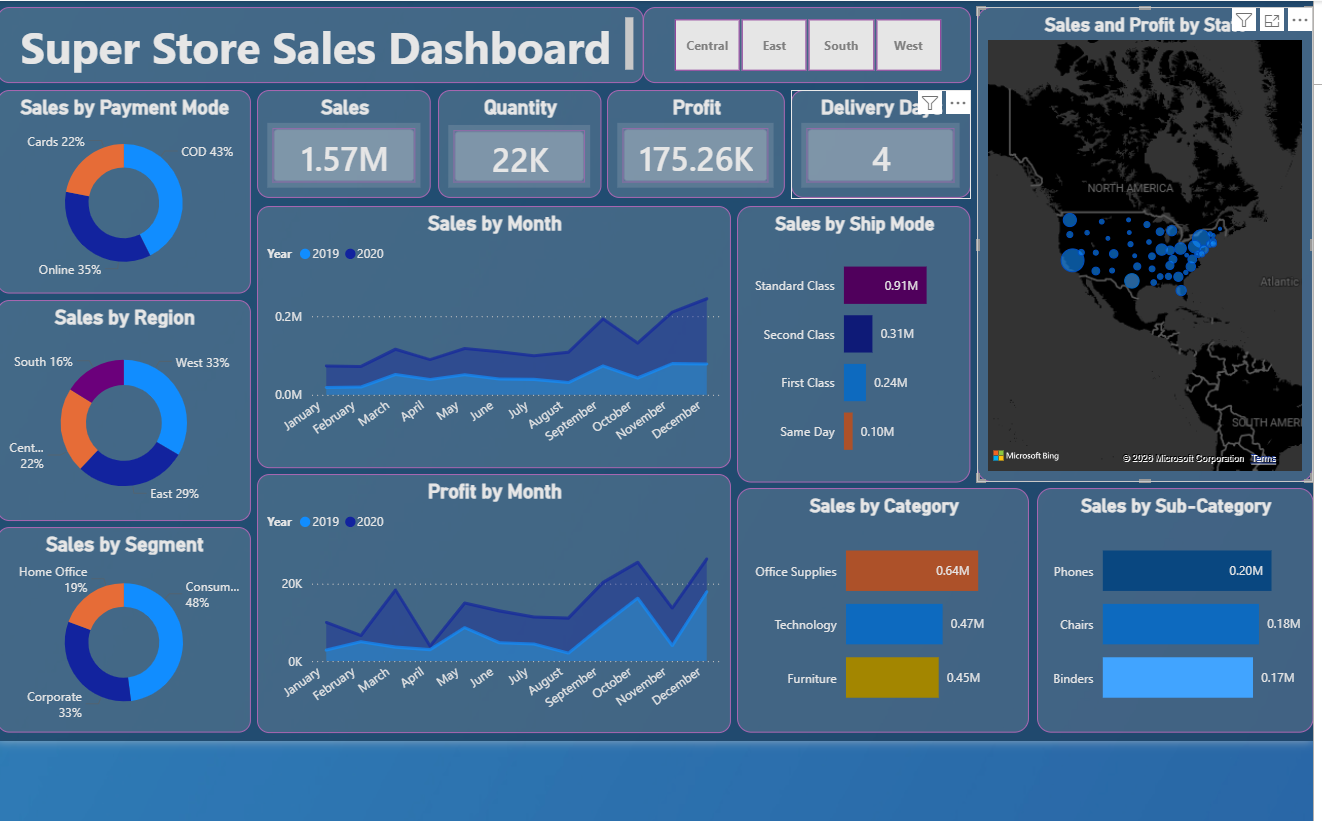

The page's visual inventory and layout, read from the dashboard file:
{"tool":"powerbi","page":{"name":"Dashboard","canvas":[1280,720],"ordinal":0},"visuals":[{"type":"clusteredBarChart","title":"Sales by Category","fields":{"Category":["Sheet1.Category"],"Y":["Sum(Sheet1.Sales)"]},"box":[720,474.1,284.5,238],"z":0},{"type":"clusteredBarChart","title":"Sales by Ship Mode","fields":{"Y":["Sum(Sheet1.Sales)"],"Category":["Sheet1.Ship Mode"]},"box":[720,199.3,227.4,268.7],"z":1000},{"type":"clusteredBarChart","title":"Sales by Sub-Category","fields":{"Y":["Sum(Sheet1.Sales)"],"Category":["Sheet1.Sub-Category"]},"box":[1011.5,474.1,268.7,238],"z":2000},{"type":"stackedAreaChart","title":"Profit by Month","fields":{"Series":["Sheet1.Order Date.Variation.Date Hierarchy.Year"],"Category":["Sheet1.Order Date.Variation.Date Hierarchy.Month","Sheet1.Order Date.Variation.Date Hierarchy.Day"],"Y":["Sum(Sheet1.Profit)"]},"box":[252.9,460.1,461,252],"z":3000},{"type":"stackedAreaChart","title":"Sales by Month","fields":{"Y":["Sum(Sheet1.Sales)"],"Series":["Sheet1.Order Date.Variation.Date Hierarchy.Year"],"Category":["Sheet1.Order Date.Variation.Date Hierarchy.Month","Sheet1.Order Date.Variation.Date Hierarchy.Day"]},"box":[252.9,199.3,461,254.6],"z":4000},{"type":"map","title":"Sales and Profit by State","fields":{"Category":["Sheet1.State"],"Size":["Sum(Sheet1.Sales)"]},"box":[953.6,6.1,326.6,461.9],"z":5000},{"type":"donutChart","title":"Sales by Payment Mode","fields":{"Category":["Sheet1.Payment Mode"],"Y":["Sum(Sheet1.Sales)"]},"box":[0,86.9,246.7,197.6],"z":6000},{"type":"donutChart","title":"Sales by Region","fields":{"Category":["Sheet1.Region"],"Y":["Sum(Sheet1.Sales)"]},"box":[0,290.6,246.7,215.1],"z":7000},{"type":"donutChart","title":"Sales by Segment","fields":{"Category":["Sheet1.Segment"],"Y":["Sum(Sheet1.Sales)"]},"box":[0,511.9,246.7,200.2],"z":8000},{"type":"slicer","fields":{"Values":["Sheet1.Region"]},"box":[628.7,6.1,318.7,73.8],"z":9000},{"type":"textbox","box":[0,6.1,628.7,73.8],"z":10000},{"type":"cardVisual","title":"Sales","fields":{"Data":["Sum(Sheet1.Sales)"]},"box":[252.9,86.9,169.5,105.4],"z":11000},{"type":"cardVisual","title":"Quantity","fields":{"Data":["Sum(Sheet1.Quantity)"]},"box":[428.5,86.9,158.9,105.4],"z":12000},{"type":"cardVisual","title":"Profit","fields":{"Data":["Sum(Sheet1.Profit)"]},"box":[593.6,86.9,173,105.4],"z":13000},{"type":"cardVisual","title":"Delivery Days","fields":{"Data":["Avg(Sheet1.Average Delivery)"]},"box":[772.7,86.9,174.7,105.4],"z":14000}]}

Visuals, with their boxes on the page's 1280x720 design canvas (x1, y1, x2, y2). These are canvas units, not pixel positions in the 1322x821 screenshot, which may show the page scaled, cropped or inside an application window:
"Sales by Category" clusteredBarChart: Rect(720, 474, 1004, 712)
"Sales by Ship Mode" clusteredBarChart: Rect(720, 199, 947, 468)
"Sales by Sub-Category" clusteredBarChart: Rect(1012, 474, 1280, 712)
"Profit by Month" stackedAreaChart: Rect(253, 460, 714, 712)
"Sales by Month" stackedAreaChart: Rect(253, 199, 714, 454)
"Sales and Profit by State" map: Rect(954, 6, 1280, 468)
"Sales by Payment Mode" donutChart: Rect(0, 87, 247, 284)
"Sales by Region" donutChart: Rect(0, 291, 247, 506)
"Sales by Segment" donutChart: Rect(0, 512, 247, 712)
slicer - Sheet1.Region: Rect(629, 6, 947, 80)
textbox: Rect(0, 6, 629, 80)
"Sales" cardVisual: Rect(253, 87, 422, 192)
"Quantity" cardVisual: Rect(428, 87, 587, 192)
"Profit" cardVisual: Rect(594, 87, 767, 192)
"Delivery Days" cardVisual: Rect(773, 87, 947, 192)
